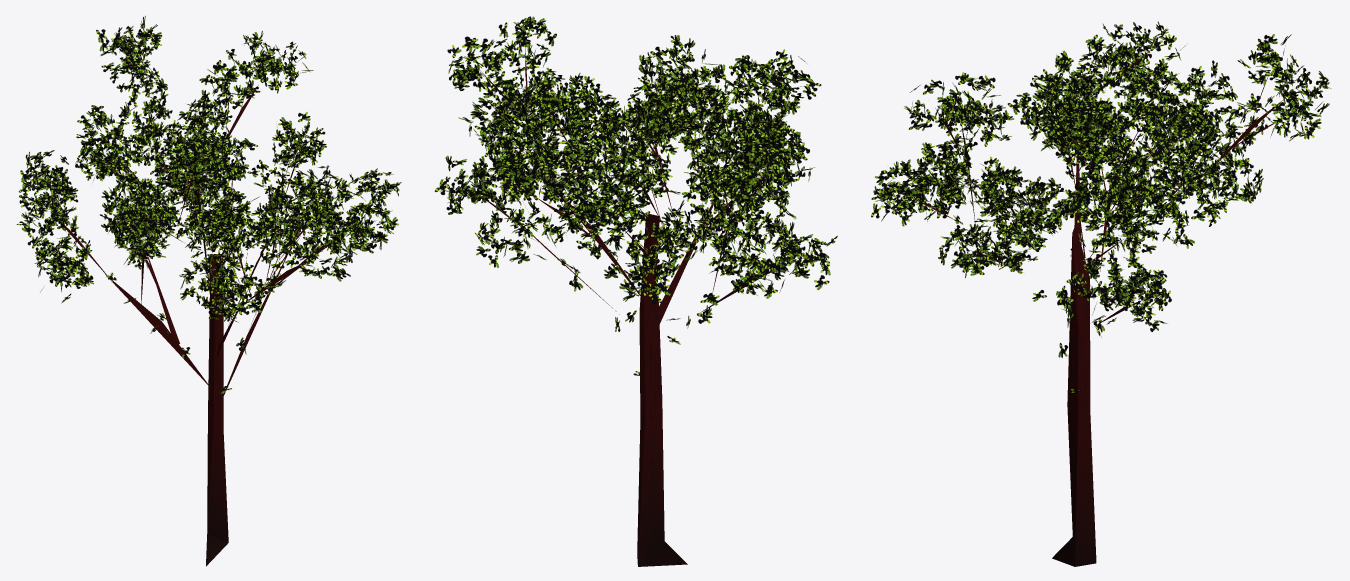
Rendered from emergent_fig_v03_LOD2.glb.
The picture shows the model from 3 angles, left to right: view 1: azimuth 30°, elevation 25°; view 2: azimuth 150°, elevation 25°; view 3: azimuth 270°, elevation 25°; orthographic projection. The views are drawn at different scales.
Visible parts, largest first — view 1: emergent_fig_v03_LOD2; view 2: emergent_fig_v03_LOD2; view 3: emergent_fig_v03_LOD2.
Boxes of the visible parts, <box> form: emergent_fig_v03_LOD2: <box>16,16,401,566</box>; emergent_fig_v03_LOD2: <box>435,16,837,566</box>; emergent_fig_v03_LOD2: <box>871,21,1331,566</box>.
Bounding box in the file's own units: 35.69 × 50.42 × 39.3.
2 materials, 2 textured.
